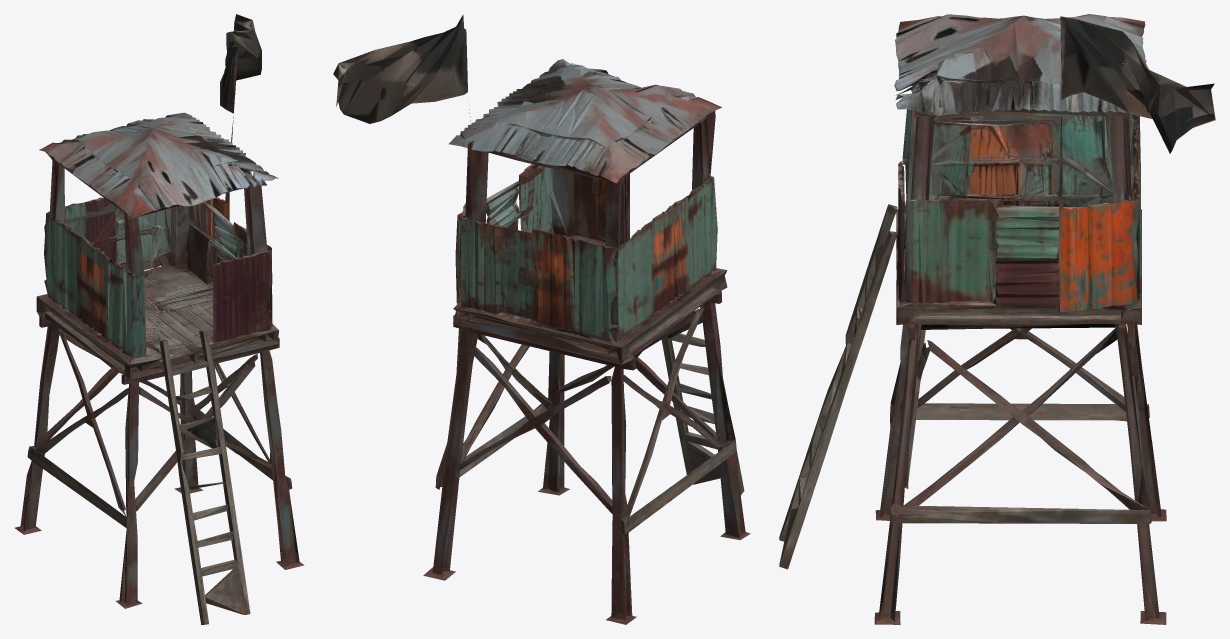
File: prop-watchtower.glb
The picture shows the model from 3 angles, left to right: view 1: azimuth 30°, elevation 25°; view 2: azimuth 150°, elevation 25°; view 3: azimuth 270°, elevation 25°; orthographic projection. The views are drawn at different scales.
Size of the model in its own units: 1.06 by 1.9 by 1.22.
Materials: 1 (1 with a texture image).
